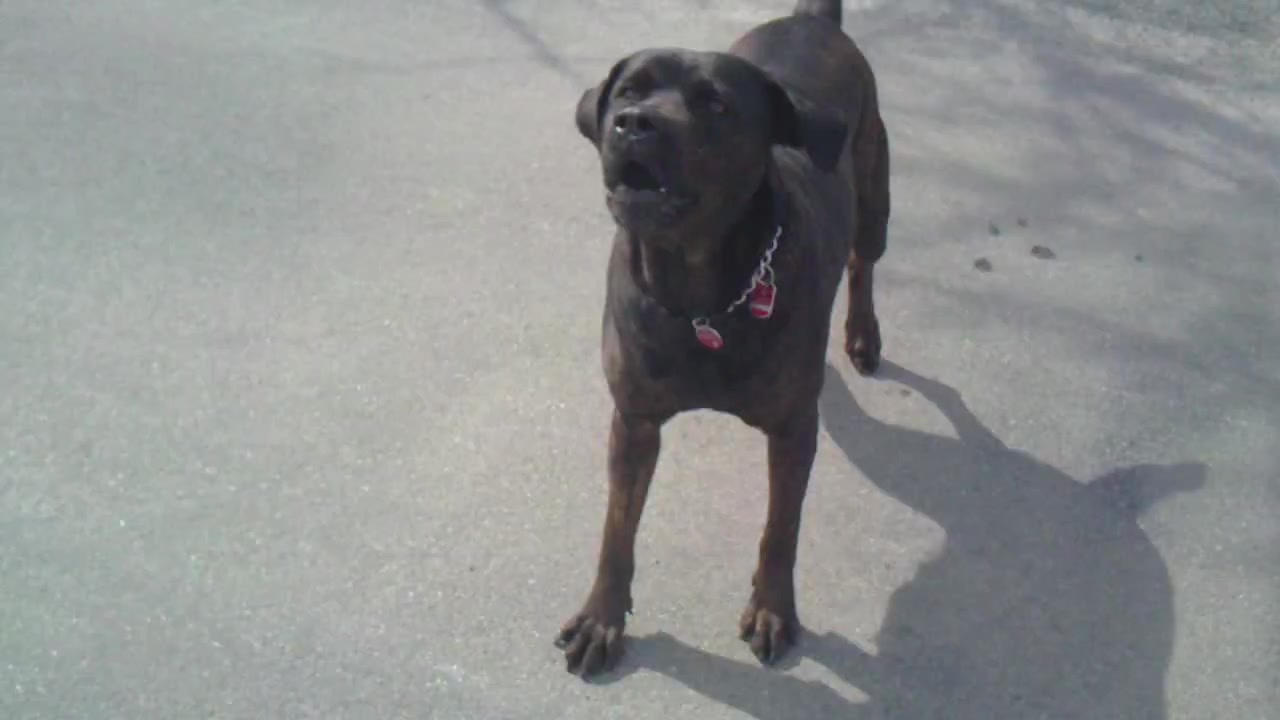dog: (556, 3, 893, 683)
